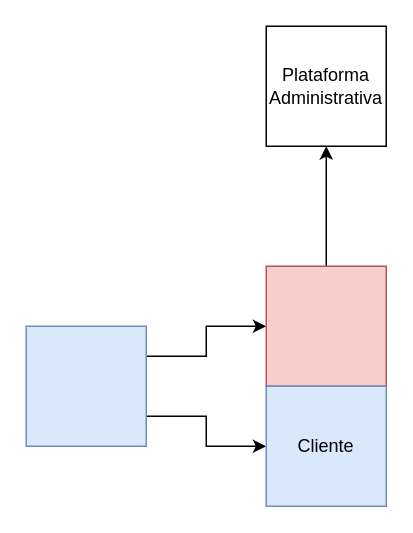
Some shapes in this 413 by 533 pixel diagram are drawn without their labels. Here are the shapes that lost their labels. From the top down, the centre of each, then its label:
the point at 325,325: Administrador
the point at 85,385: Usuário
